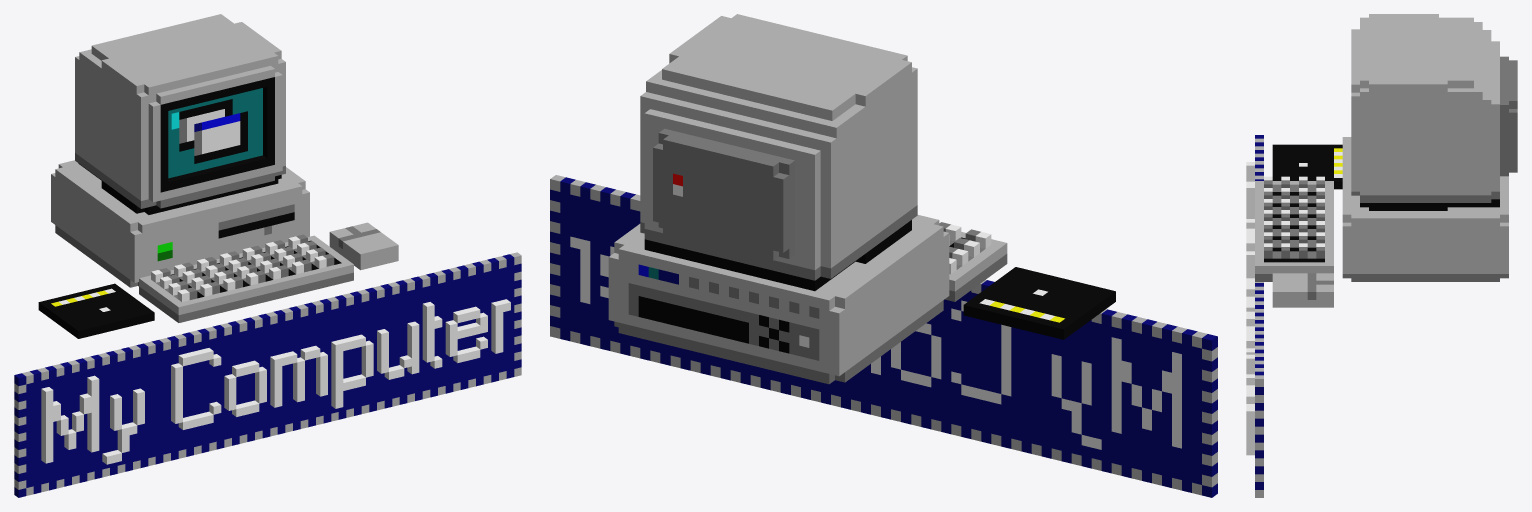
File: old_computer.glb
3 views of the same model, side by side, from view 1: azimuth 30°, elevation 25°; view 2: azimuth 150°, elevation 25°; view 3: azimuth 270°, elevation 25° (orthographic). The views are drawn at different scales.
Visible parts, largest first — view 1: Object_2; view 2: Object_2; view 3: Object_2.
Part boxes in pixels (<box>): Object_2: <box>14,14,521,497</box>; Object_2: <box>550,14,1217,497</box>; Object_2: <box>1246,14,1517,497</box>.
Bounding box in the file's own units: 6.6 × 4.1 × 3.1.
1 material, 1 textured.
